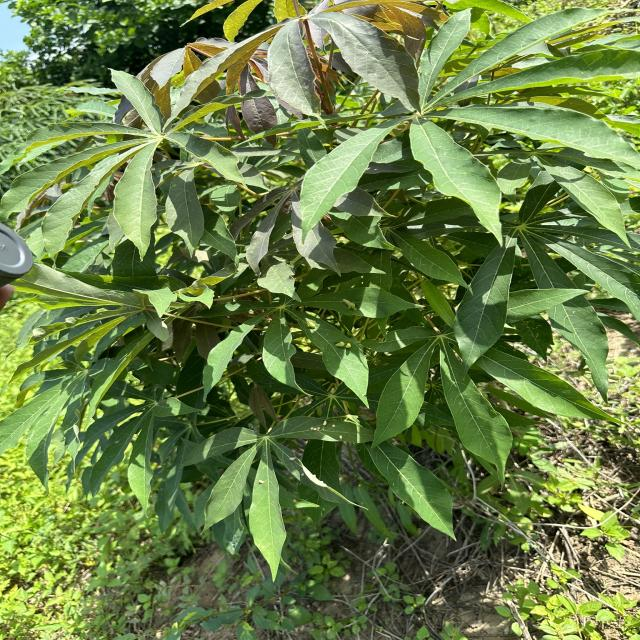Mosca: (334, 291, 370, 319), (311, 416, 345, 444), (288, 452, 314, 478), (332, 335, 355, 352), (256, 206, 273, 223), (249, 474, 268, 488)
